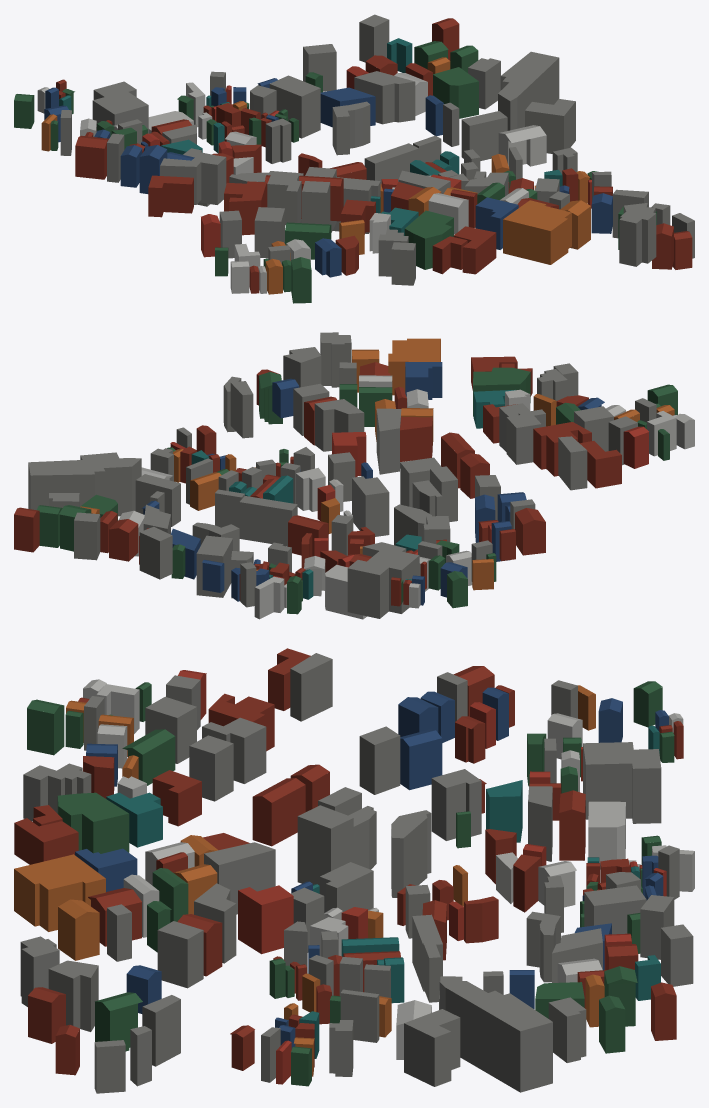
The model's file is near-17-109439-59477.e78aecb3.glb.
3 renders of one model, top to bottom at view 1: azimuth 30°, elevation 25°; view 2: azimuth 150°, elevation 25°; view 3: azimuth 270°, elevation 25°, orthographic. The views are drawn at different scales.
Size of the model in its own units: 328 by 84.8 by 308.
